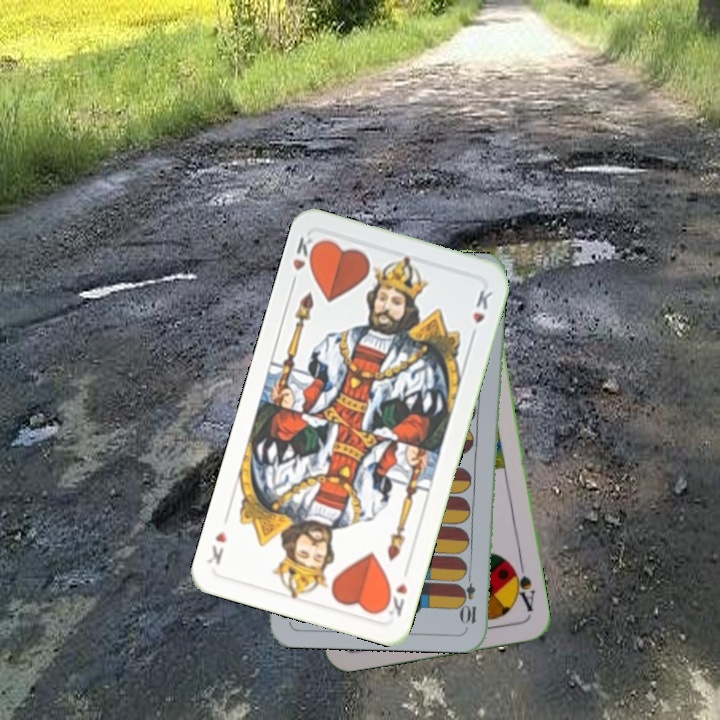E10: (460, 567, 479, 627)
HK: (287, 233, 321, 289), (378, 578, 410, 620)
SA: (507, 558, 537, 615)
